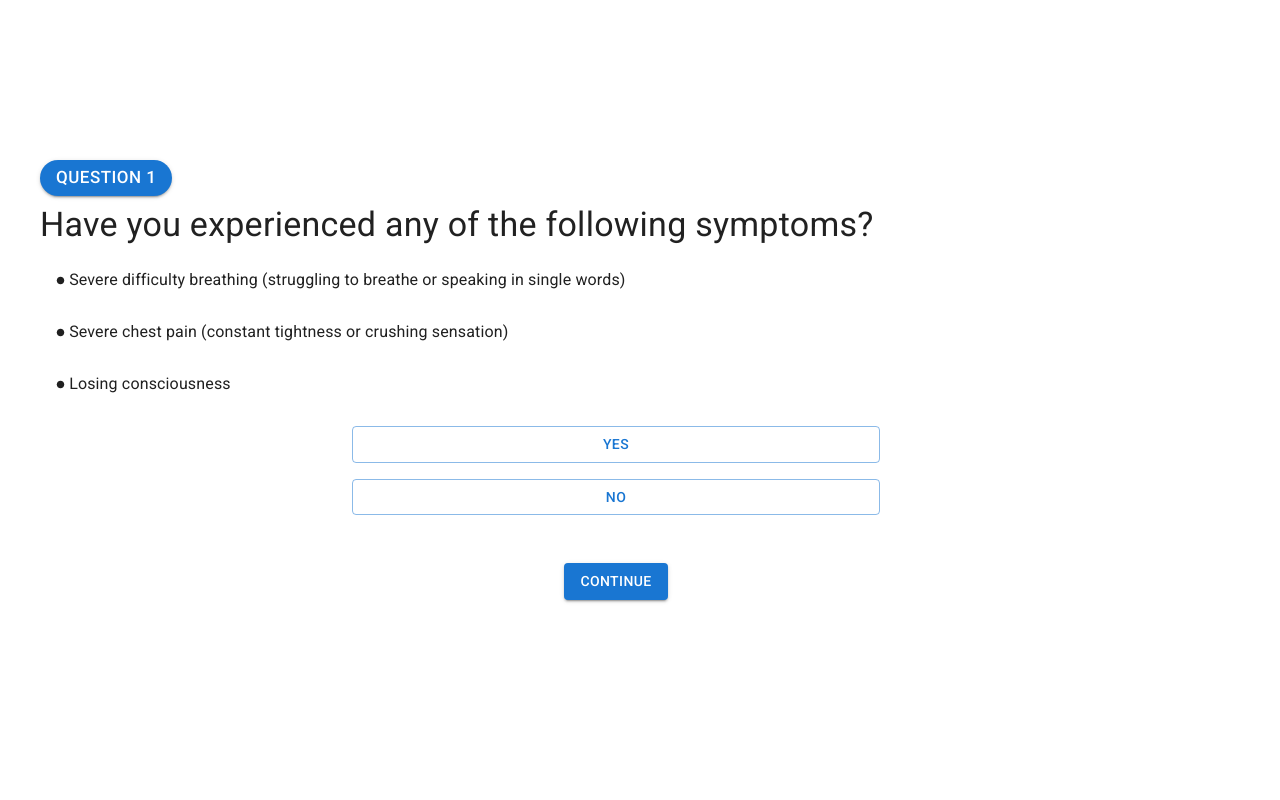
FormLayout Sends you to an Emergency Hotline
Check: the button "Continue" is shown, box [564,563,668,600]
Check: the button "Question 1" is shown, box [40,160,172,196]
Click the button "Yes". click: click(616, 444)
box: [352,426,880,463]
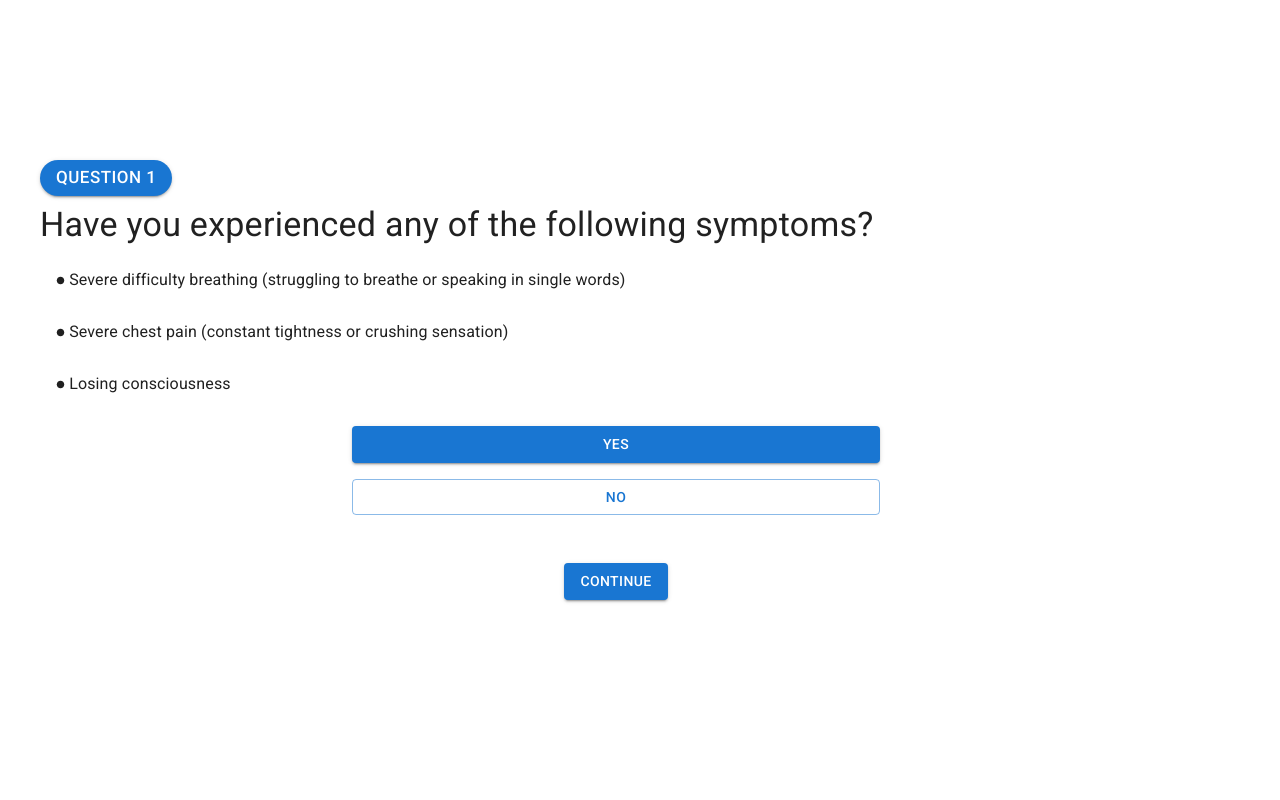
Click the button "Continue". click: click(616, 581)
box: [564,563,668,600]
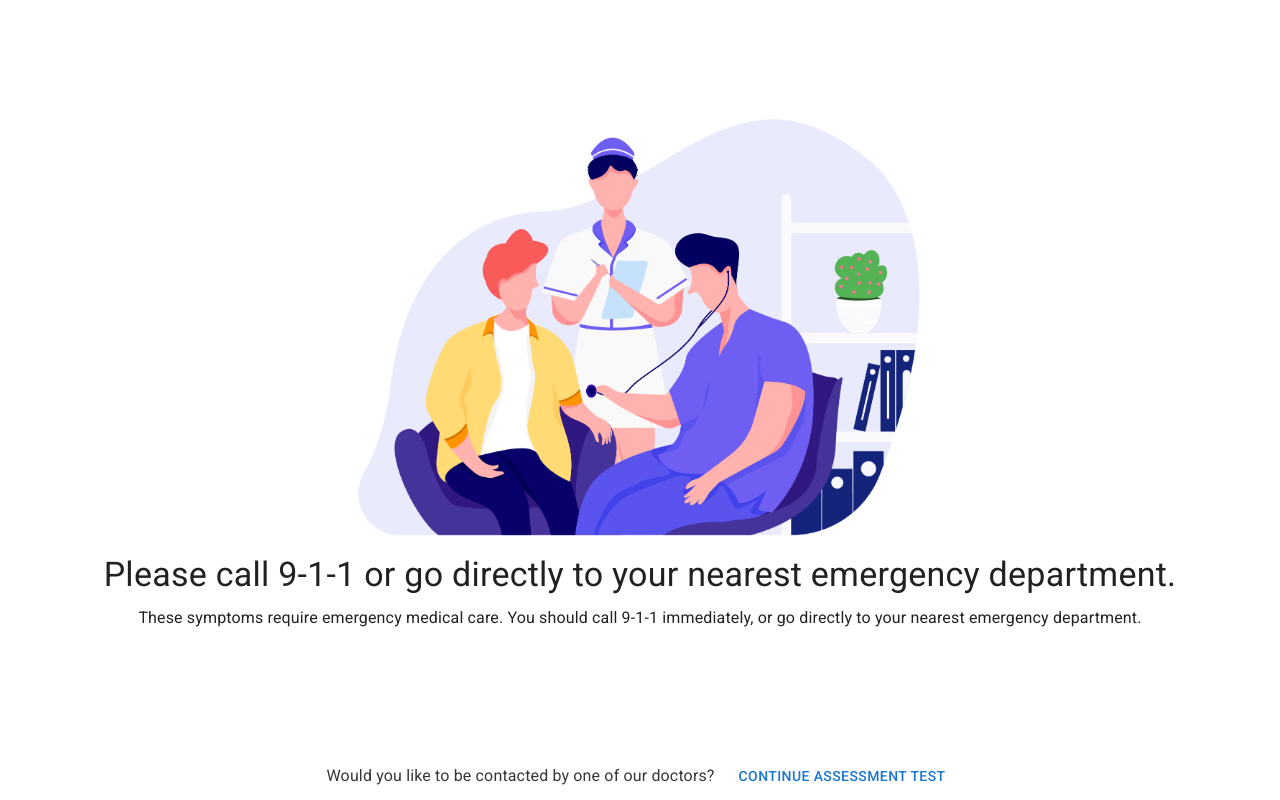
Check: the heading "Please call 9-1-1 or go directly to your nearest emergency department." is shown, box [88,554,1192,596]
